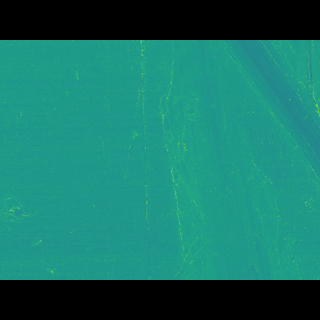Loch: (156, 69, 319, 249), (0, 182, 44, 212)
